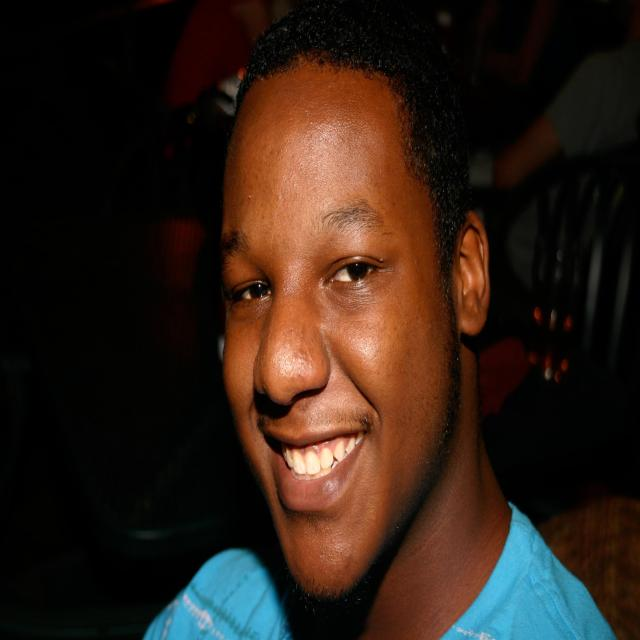Eyebags: (322, 270, 383, 317), (232, 296, 274, 330)
